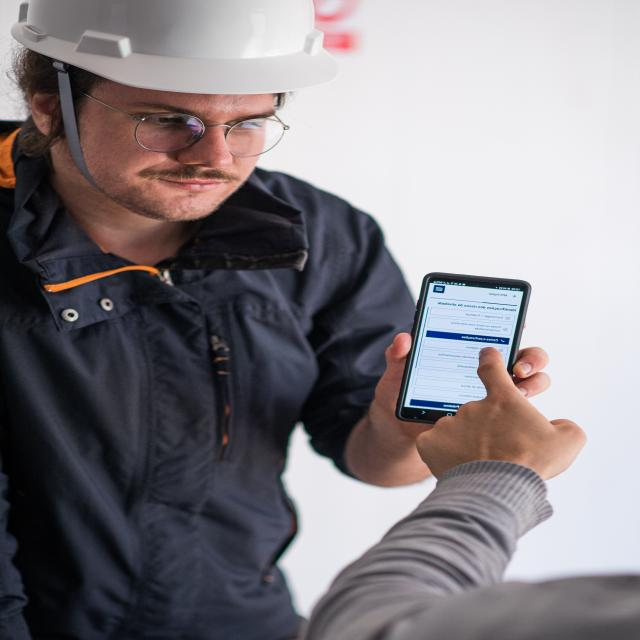capacete: (0, 0, 344, 98)
